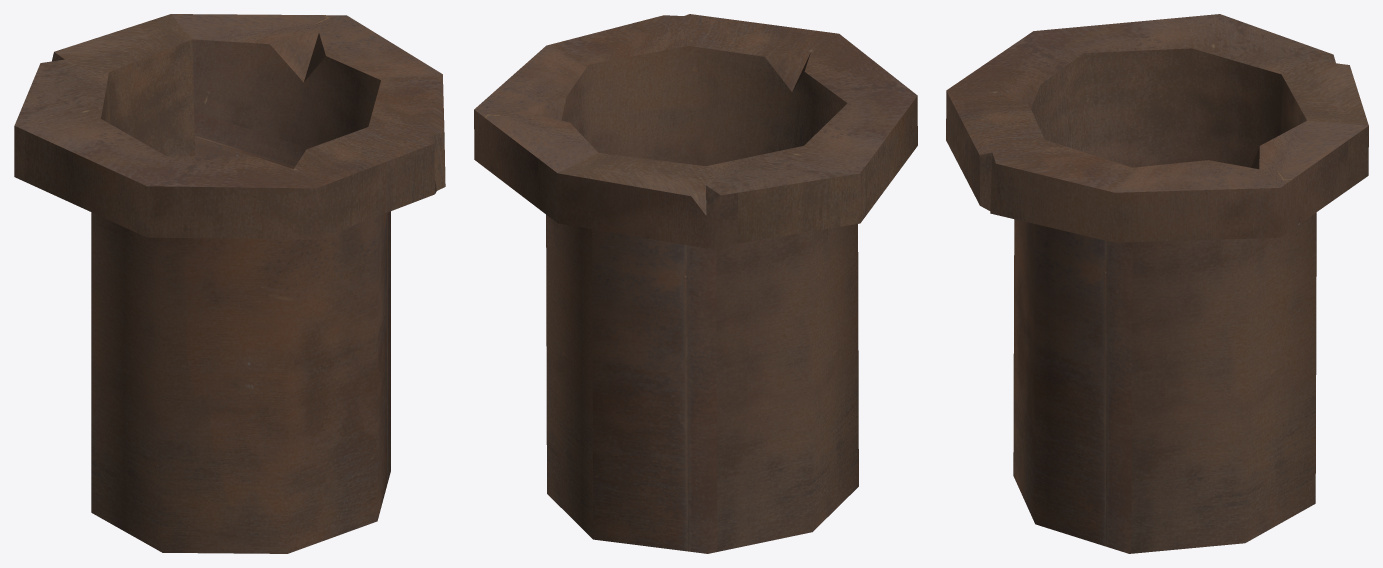
Rendered from tube_Small1_GEO.fbx.
The picture shows the model from 3 angles, left to right: view 1: azimuth 30°, elevation 25°; view 2: azimuth 150°, elevation 25°; view 3: azimuth 270°, elevation 25°; orthographic projection. The views are drawn at different scales.
Parts seen in each view (by area): view 1: tube_Small1_GEO; view 2: tube_Small1_GEO; view 3: tube_Small1_GEO.
Boxes of the visible parts, x1,y1,x2,y2 form: tube_Small1_GEO: (14,14,445,553); tube_Small1_GEO: (474,14,917,553); tube_Small1_GEO: (946,14,1368,553).
Bounding box in the file's own units: 2.83 × 2.86 × 2.84.
